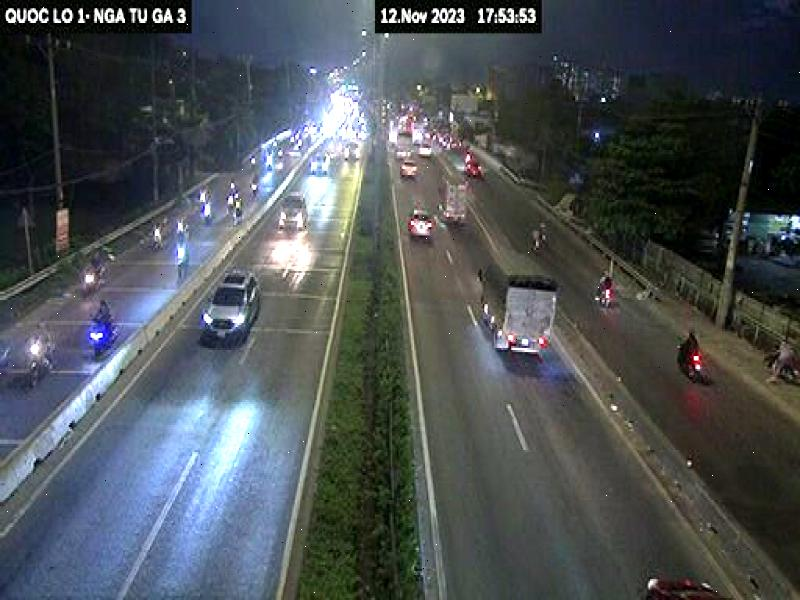truck: (475, 252, 561, 360)
